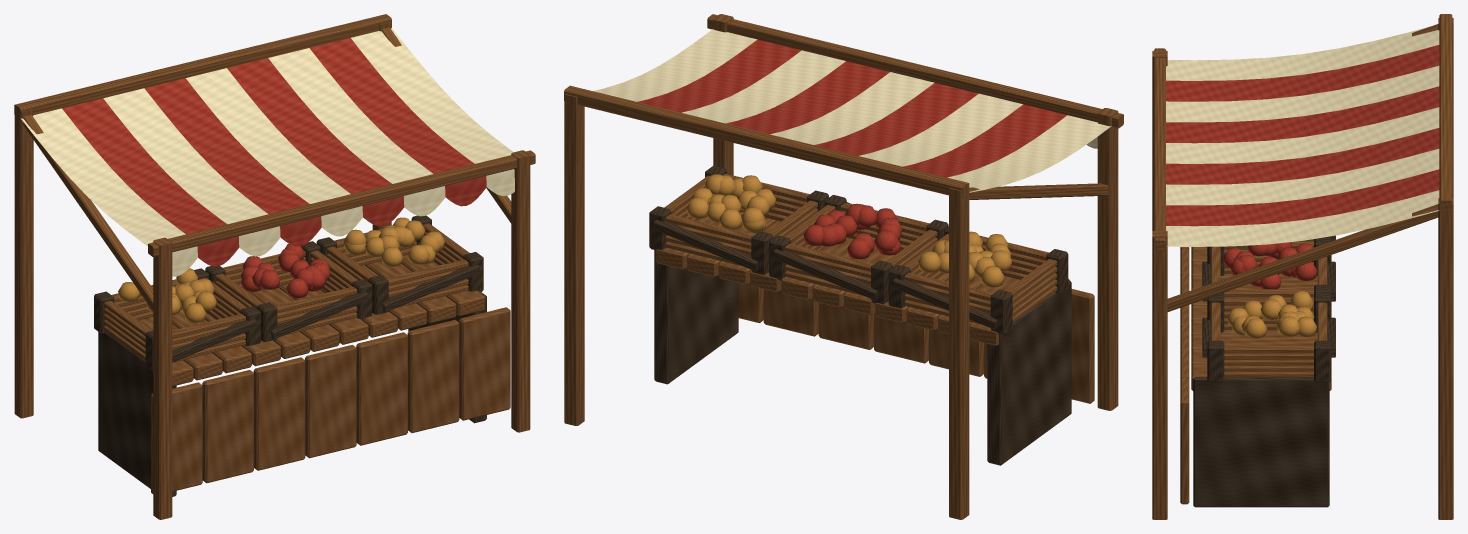
Rendered from market_fruit.glb.
3 views of the same model, side by side, from view 1: azimuth 30°, elevation 25°; view 2: azimuth 150°, elevation 25°; view 3: azimuth 270°, elevation 25° (orthographic). The views are drawn at different scales.
Parts seen in each view (by area): view 1: market_fruit_Joinery.001, market_fruit_Cloth.001, market_fruit_Goods.001; view 2: market_fruit_Joinery.001, market_fruit_Cloth.001, market_fruit_Goods.001; view 3: market_fruit_Joinery.001, market_fruit_Cloth.001, market_fruit_Goods.001.
Boxes of the visible parts, x1,y1,x2,y2 form: market_fruit_Joinery.001: (14,14,535,519); market_fruit_Cloth.001: (21,28,514,276); market_fruit_Goods.001: (118,217,444,322); market_fruit_Joinery.001: (564,14,1123,519); market_fruit_Cloth.001: (593,29,1111,192); market_fruit_Goods.001: (686,174,1012,287); market_fruit_Joinery.001: (1152,14,1453,519); market_fruit_Cloth.001: (1166,26,1439,246); market_fruit_Goods.001: (1223,242,1317,338).
Size of the model in its own units: 3.5 by 2.71 by 2.32.
Materials: 1 (1 with a texture image).
